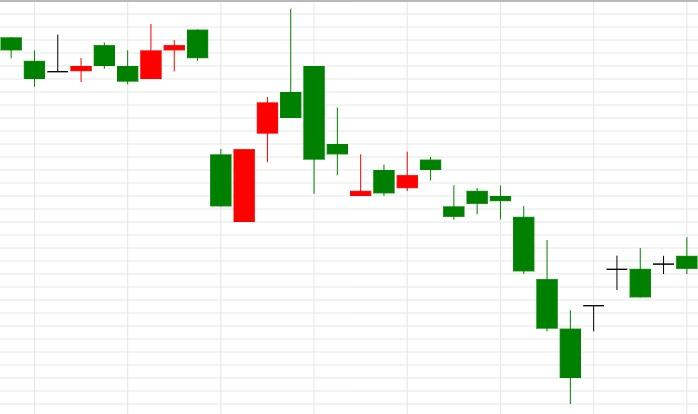bullish_engulfing_rise: (164, 30, 255, 222)
